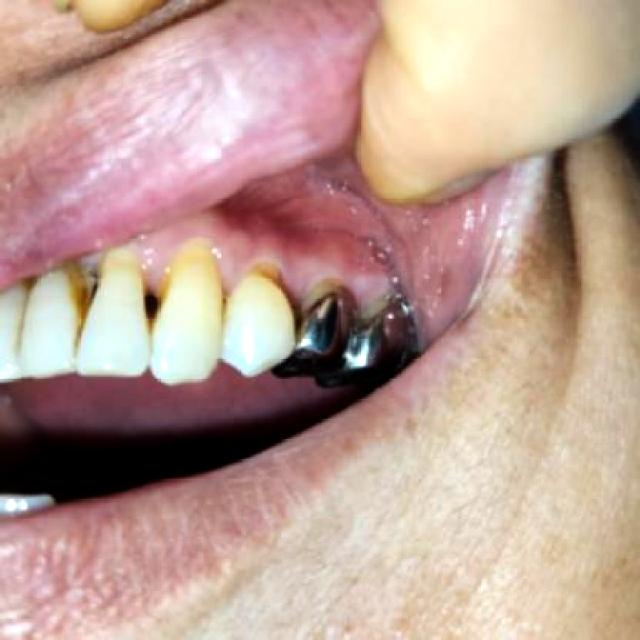Plaque: (130, 211, 395, 309), (81, 253, 101, 278)
